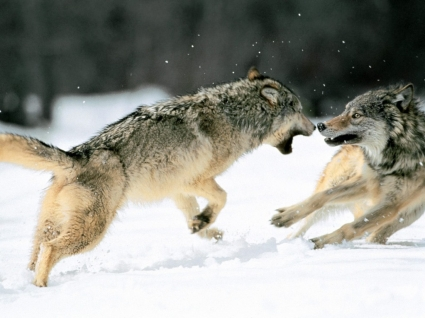Lobo: (11, 60, 323, 262), (301, 78, 424, 254)
